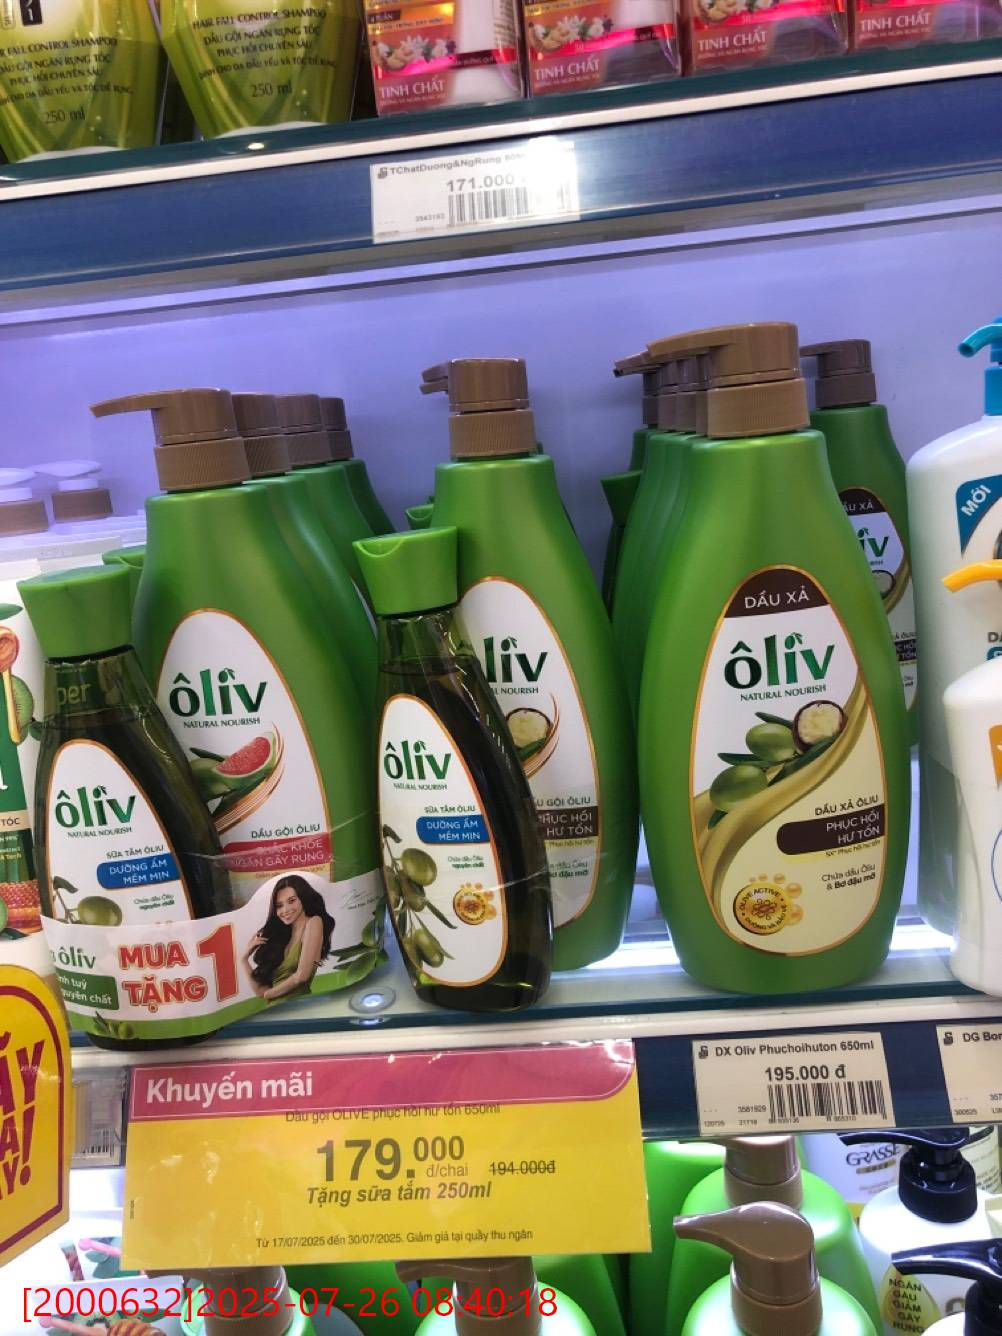pricetag: (684, 1024, 902, 1143)
pricetag_discount: (104, 1029, 653, 1283)
